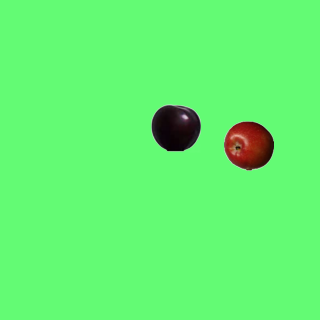Apple Braeburn: (223, 120, 273, 170)
Cherry Wax Black: (150, 102, 200, 152)
